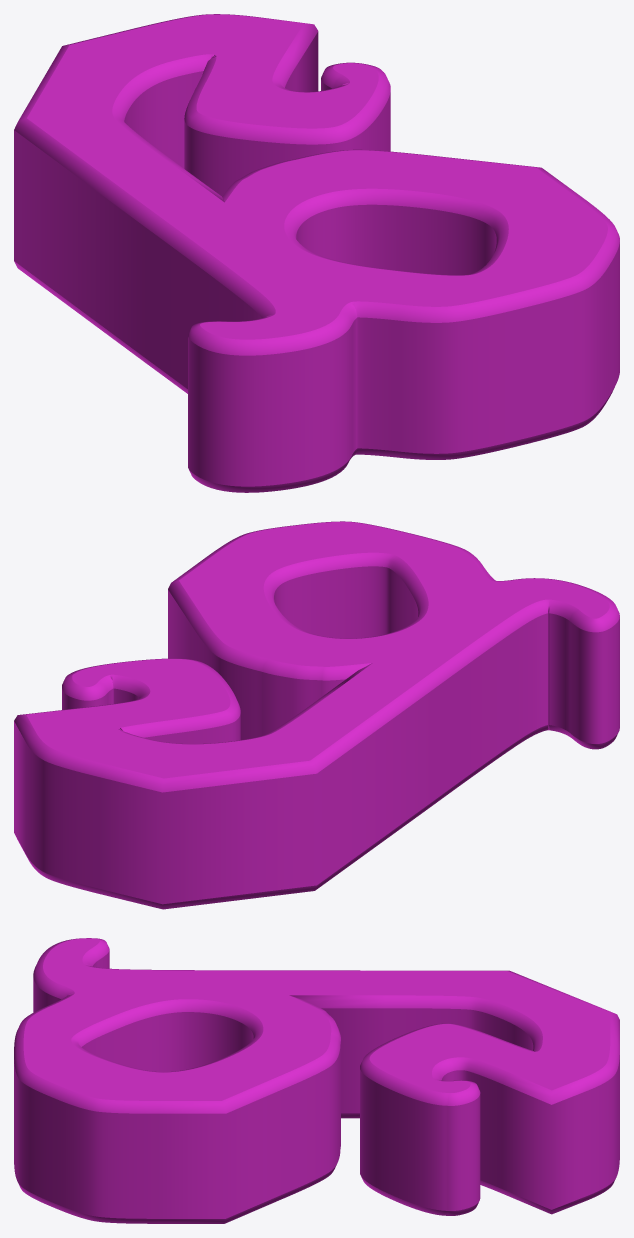
Rendered from Letter_g_Small.fbx.
The picture shows the model from 3 angles, top to bottom: view 1: azimuth 30°, elevation 25°; view 2: azimuth 150°, elevation 25°; view 3: azimuth 270°, elevation 25°; orthographic projection. The views are drawn at different scales.
Visible parts, largest first — view 1: Letter_g; view 2: Letter_g; view 3: Letter_g.
Boxes of the visible parts, <box> form: Letter_g: <box>14,14,619,492</box>; Letter_g: <box>14,521,619,909</box>; Letter_g: <box>14,938,619,1223</box>.
Bounding box in the file's own units: 0.418 × 0.14 × 0.6272.
